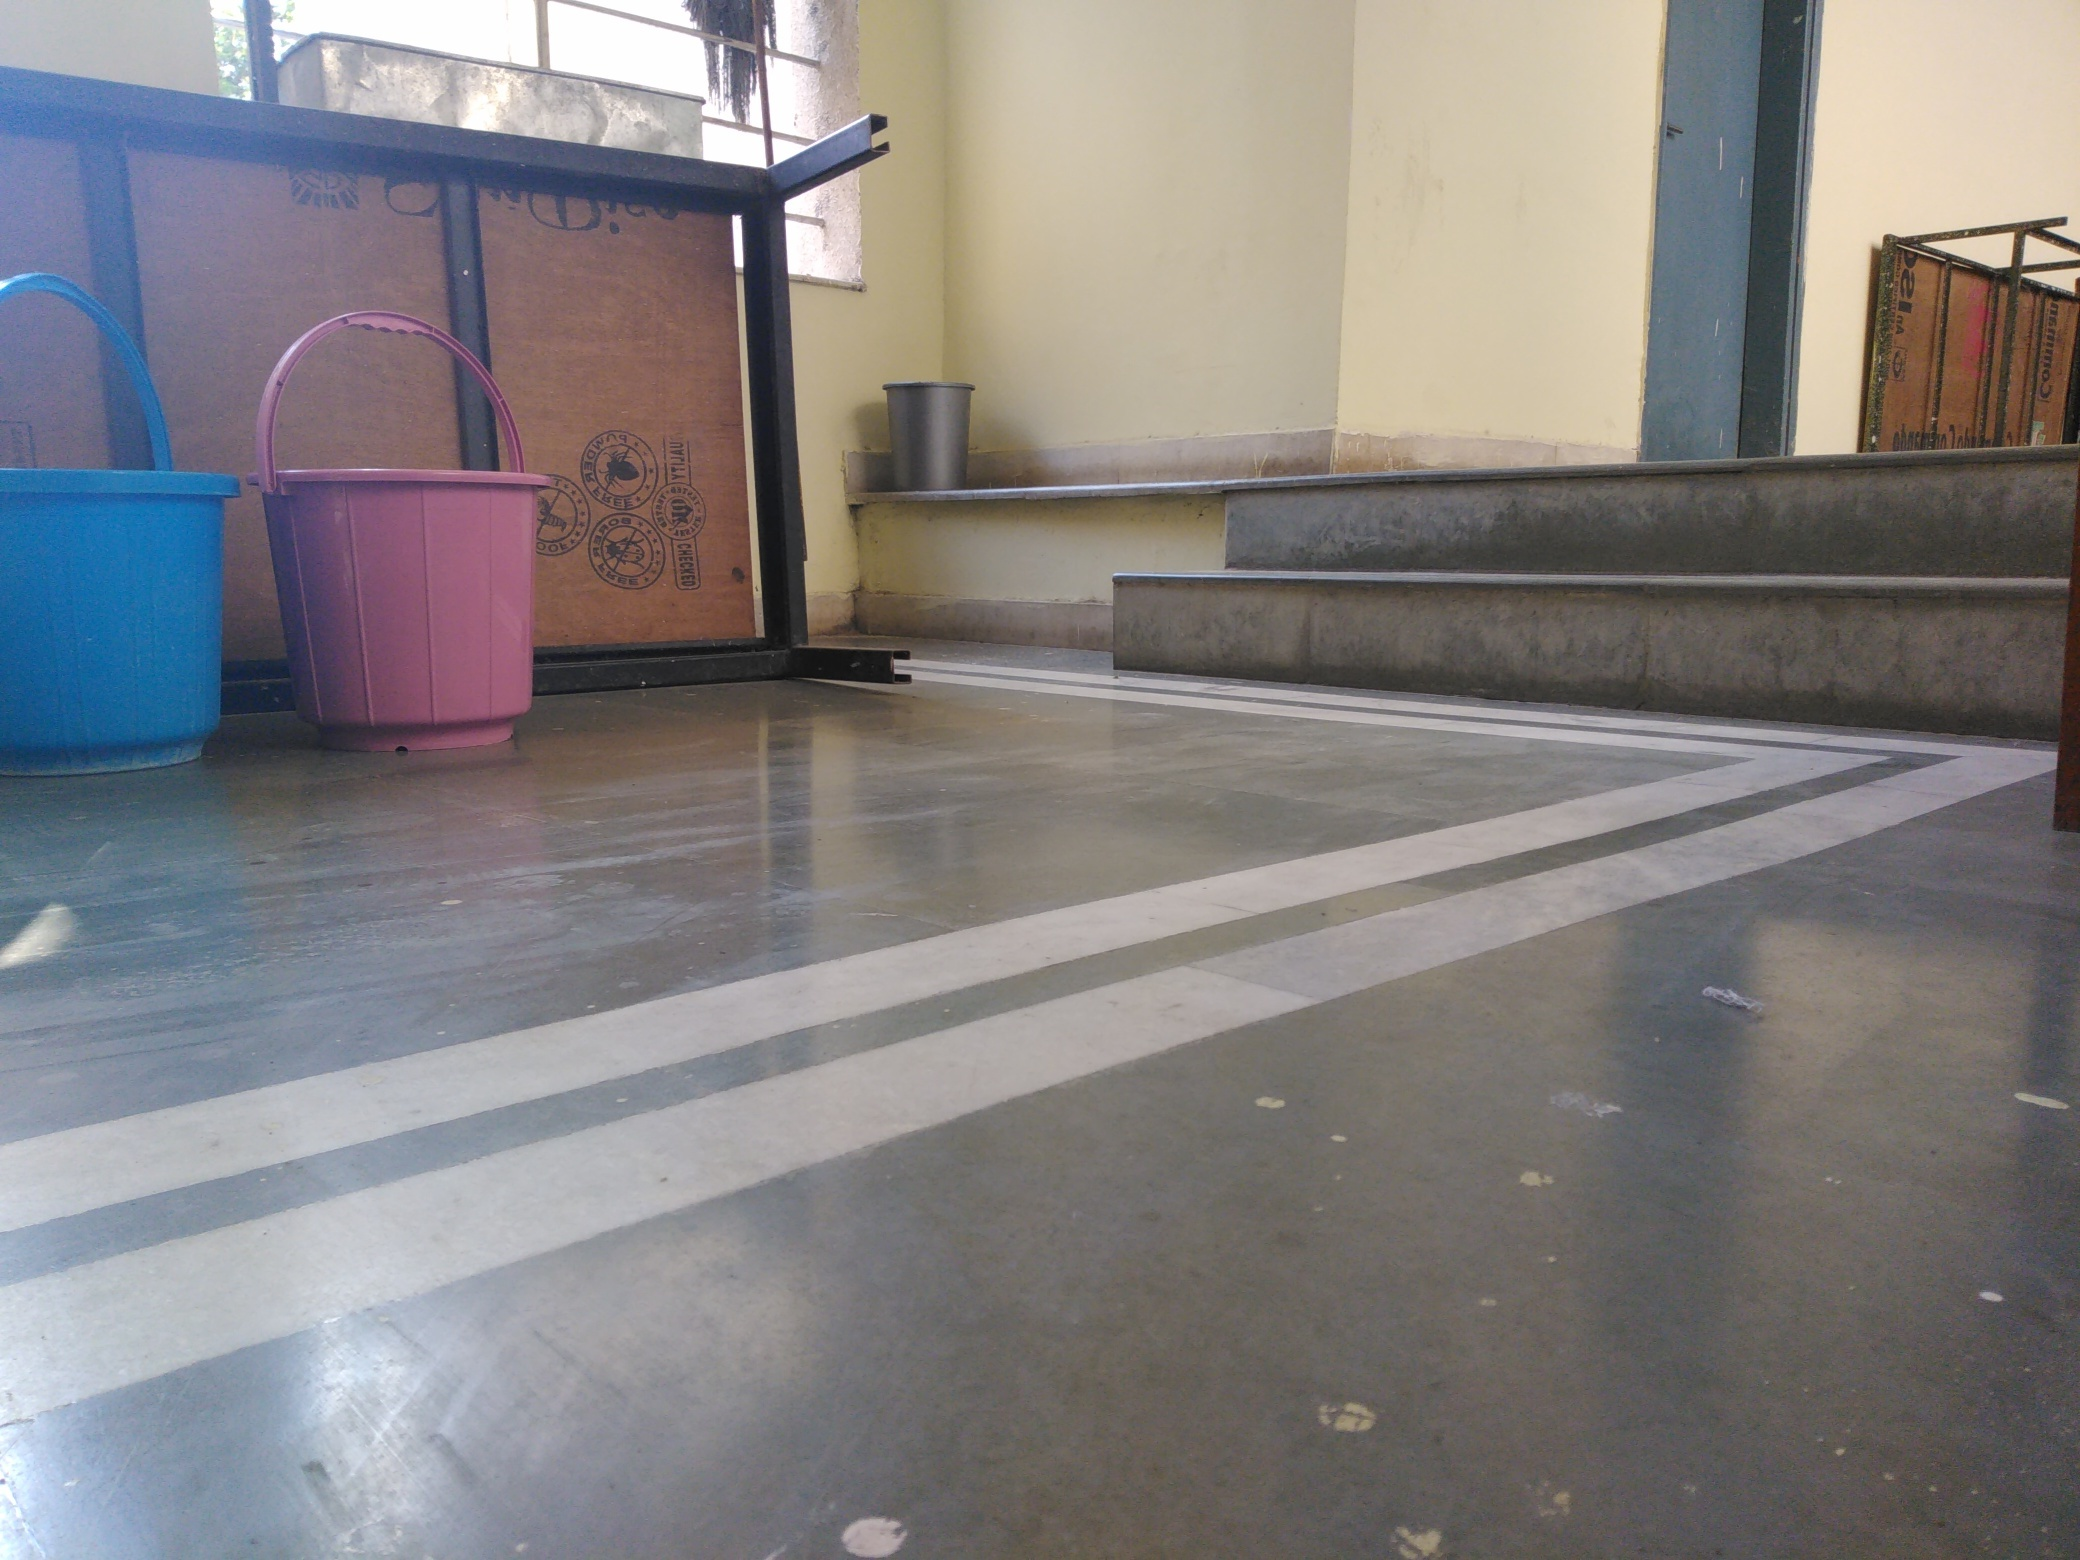stairs_up: (1092, 442, 2065, 695)
